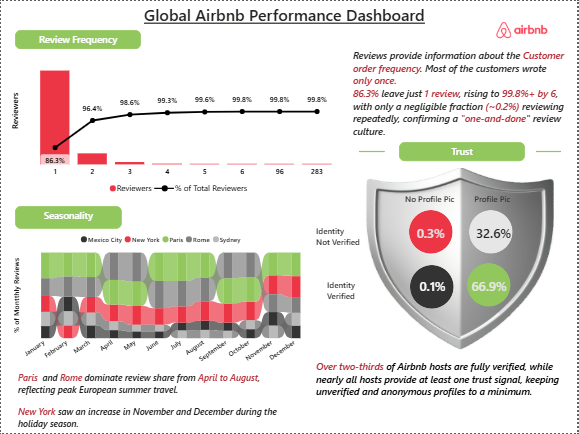

Layout of this report page (visuals, bound fields, positions):
{"tool":"powerbi","page":{"name":"Reviews","canvas":[960,720],"ordinal":2},"visuals":[{"type":"textbox","box":[233.8,0,491.5,116.9],"z":0},{"type":"shape","box":[779.5,347.9,72.7,72.7],"z":0,"group":"g4"},{"type":"shape","box":[680.8,348.3,72.7,72.7],"z":0,"group":"g2"},{"type":"shape","box":[682.4,439.9,72.7,72.7],"z":0,"group":"g3"},{"type":"image","box":[776.8,0,183.7,97.1],"z":1000},{"type":"cardVisual","fields":{"Data":["Listings.NotVerified_Profile %"]},"box":[758.3,325,125,120],"z":1000,"group":"g4"},{"type":"cardVisual","fields":{"Data":["Listings.NotVerified_NoProfile %"]},"box":[671.7,348.3,89.9,71.7],"z":1000,"group":"g2"},{"type":"cardVisual","fields":{"Data":["Listings.Verified_NoProfile %"]},"box":[656.7,430,125,85],"z":1000,"group":"g3"},{"type":"textbox","box":[23.3,48.3,210,31.7],"z":2000},{"type":"textbox","box":[581.1,74.7,367.5,170.3],"z":3000},{"type":"textbox","box":[663.3,235,210,31.7],"z":4000},{"type":"textbox","box":[520,593.3,440,101.7],"z":6000},{"type":"shape","box":[596.7,215,43.3,71.7],"z":7000},{"type":"shape","box":[891.7,215,41.7,71.7],"z":8000},{"type":"lineStackedColumnComboChart","fields":{"Y":["Reviews.Reviewers"],"Category":["Reviews.Reviews per Reviewer"],"Y2":["Reviews.Cumulative % review frequency"]},"box":[13.3,80,568.3,251.7],"z":9000},{"type":"image","box":[603.3,278.9,317.8,314.4],"z":10000},{"type":"group","id":"g1","title":"Group 1","box":[765,425,113.3,96.7],"z":11000},{"type":"shape","box":[777.1,437.1,72.7,72.7],"z":11000,"group":"g1"},{"type":"group","id":"g2","title":"Group 4","box":[671.7,348.3,90,71.7],"z":12000},{"type":"cardVisual","fields":{"Data":["Listings.Verified_Profile %"]},"box":[765,425,113.1,97],"z":12000,"group":"g1"},{"type":"group","id":"g3","title":"Group 2","box":[656.7,430,125,85],"z":13000},{"type":"group","id":"g4","title":"Group 3","box":[758.3,325,125,120],"z":14000},{"type":"textbox","box":[520,370,85.6,50],"z":15000},{"type":"textbox","box":[538.6,460,85.7,50],"z":16000},{"type":"textbox","box":[667.8,316.7,97.8,31.1],"z":17000},{"type":"textbox","box":[780,316.7,97.8,31.1],"z":18000},{"type":"ribbonChart","fields":{"Category":["Reviews.date.Variation.Date Hierarchy.Month"],"Series":["Listings.city"],"Y":["Listings.% of Montthly Reviews"]},"box":[16.7,378.3,503.3,233.3],"z":19000},{"type":"textbox","box":[23.8,341.2,177.5,37.5],"z":20000},{"type":"textbox","box":[23.3,611.7,473.3,108.3],"z":21000}]}

Visuals, with their boxes in screenshot pixels (x1, y1, x2, y2), scaled from the page's 960x720 canvas onto the 579x434 screenshot:
textbox: pyautogui.locateOnScreen(141, 0, 437, 70)
shape: pyautogui.locateOnScreen(470, 210, 514, 254)
shape: pyautogui.locateOnScreen(411, 210, 454, 254)
shape: pyautogui.locateOnScreen(412, 265, 455, 309)
image: pyautogui.locateOnScreen(469, 0, 578, 59)
cardVisual - Listings.NotVerified_Profile %: pyautogui.locateOnScreen(457, 196, 533, 268)
cardVisual - Listings.NotVerified_NoProfile %: pyautogui.locateOnScreen(405, 210, 459, 253)
cardVisual - Listings.Verified_NoProfile %: pyautogui.locateOnScreen(396, 259, 471, 310)
textbox: pyautogui.locateOnScreen(14, 29, 141, 48)
textbox: pyautogui.locateOnScreen(350, 45, 572, 148)
textbox: pyautogui.locateOnScreen(400, 142, 527, 161)
textbox: pyautogui.locateOnScreen(314, 358, 578, 419)
shape: pyautogui.locateOnScreen(360, 130, 386, 173)
shape: pyautogui.locateOnScreen(538, 130, 563, 173)
lineStackedColumnComboChart - Reviews.Reviewers x Reviews.Reviews per Reviewer: pyautogui.locateOnScreen(8, 48, 351, 200)
image: pyautogui.locateOnScreen(364, 168, 556, 358)
"Group 1" group: pyautogui.locateOnScreen(461, 256, 530, 314)
shape: pyautogui.locateOnScreen(469, 263, 513, 307)
"Group 4" group: pyautogui.locateOnScreen(405, 210, 459, 253)
cardVisual - Listings.Verified_Profile %: pyautogui.locateOnScreen(461, 256, 530, 315)
"Group 2" group: pyautogui.locateOnScreen(396, 259, 471, 310)
"Group 3" group: pyautogui.locateOnScreen(457, 196, 533, 268)
textbox: pyautogui.locateOnScreen(314, 223, 365, 253)
textbox: pyautogui.locateOnScreen(325, 277, 377, 307)
textbox: pyautogui.locateOnScreen(403, 191, 462, 210)
textbox: pyautogui.locateOnScreen(470, 191, 529, 210)
ribbonChart - Reviews.date.Variation.Date Hierarchy.Month x Listings.city: pyautogui.locateOnScreen(10, 228, 314, 369)
textbox: pyautogui.locateOnScreen(14, 206, 121, 228)
textbox: pyautogui.locateOnScreen(14, 369, 300, 433)
